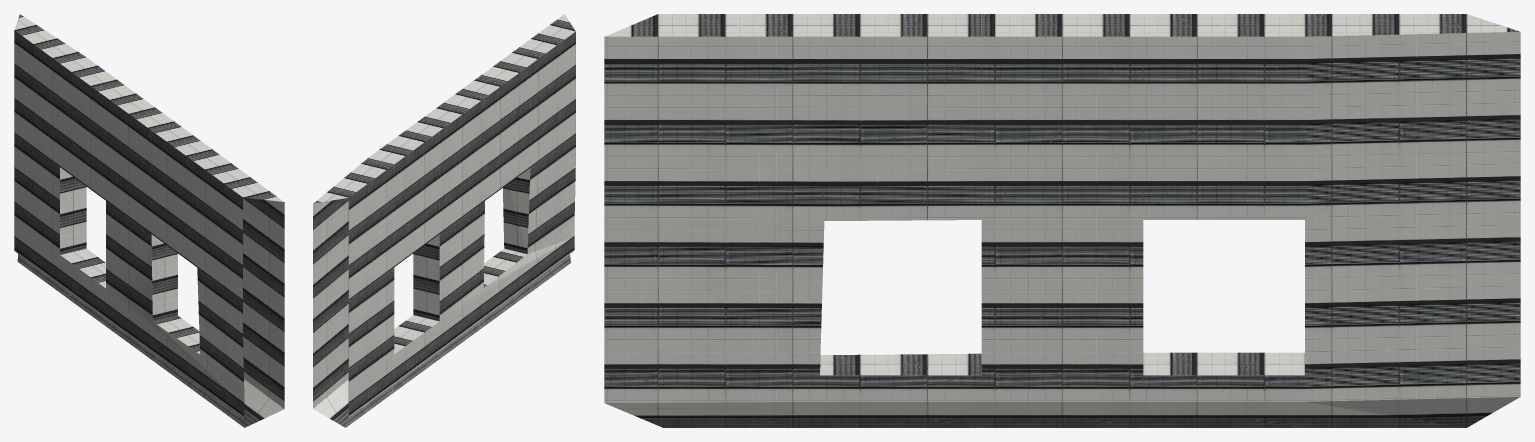
Rendered from wall4.FBX.
3 renders of one model, left to right at view 1: azimuth 30°, elevation 25°; view 2: azimuth 150°, elevation 25°; view 3: azimuth 270°, elevation 25°, orthographic. The views are drawn at different scales.
Parts seen in each view (by area): view 1: Object002; view 2: Object002; view 3: Object002.
Part boxes in pixels (left/top/right/bottom): Object002: left=14, top=14, right=284, bottom=427; Object002: left=313, top=14, right=575, bottom=427; Object002: left=604, top=14, right=1520, bottom=427.
Size of the model in its own units: 20.56 by 168 by 340.
